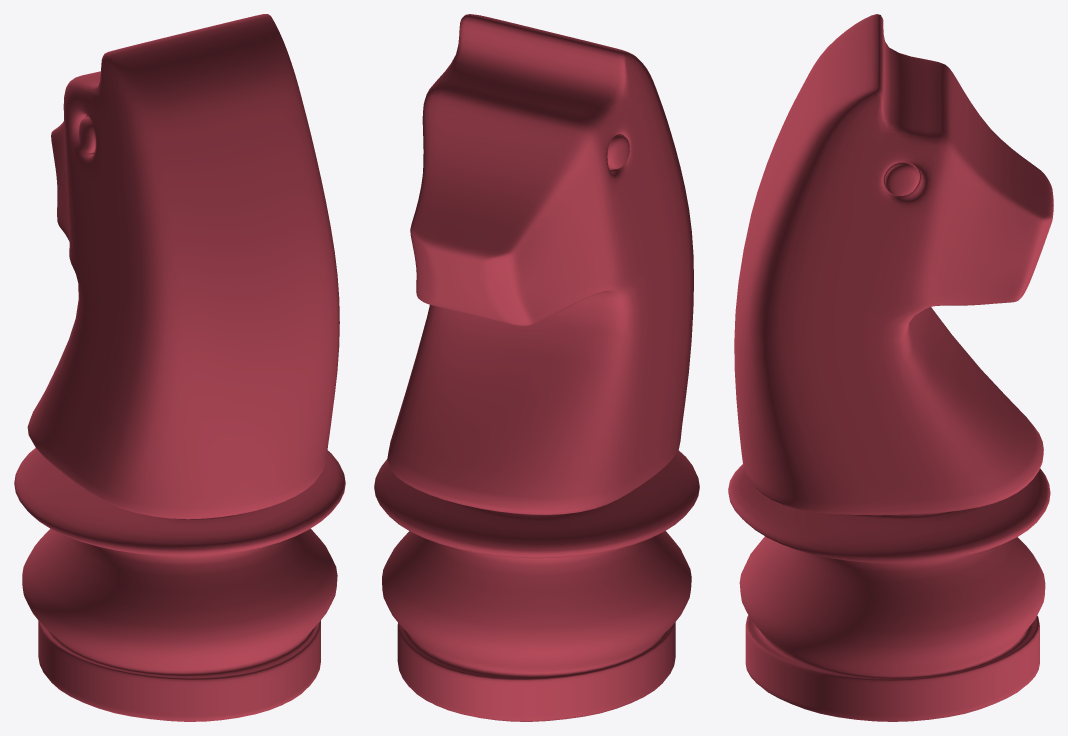
File: knight-b.glb
The picture shows the model from 3 angles, left to right: view 1: azimuth 30°, elevation 25°; view 2: azimuth 150°, elevation 25°; view 3: azimuth 270°, elevation 25°; orthographic projection. The views are drawn at different scales.
Parts seen in each view (by area): view 1: Object_33; view 2: Object_33; view 3: Object_33.
Part boxes in pixels (left/top/right/bottom): Object_33: left=14, top=14, right=345, bottom=721; Object_33: left=374, top=14, right=699, bottom=721; Object_33: left=728, top=14, right=1053, bottom=721.
Size of the model in its own units: 0.7299 by 1.54 by 0.7401.
